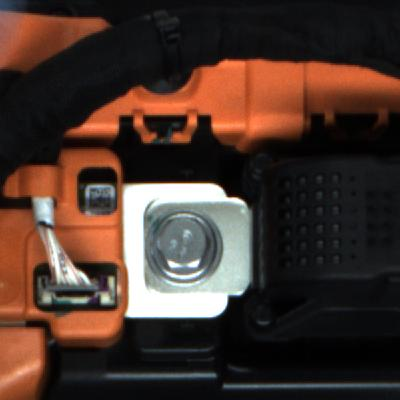nut_b: (140, 202, 232, 285)
